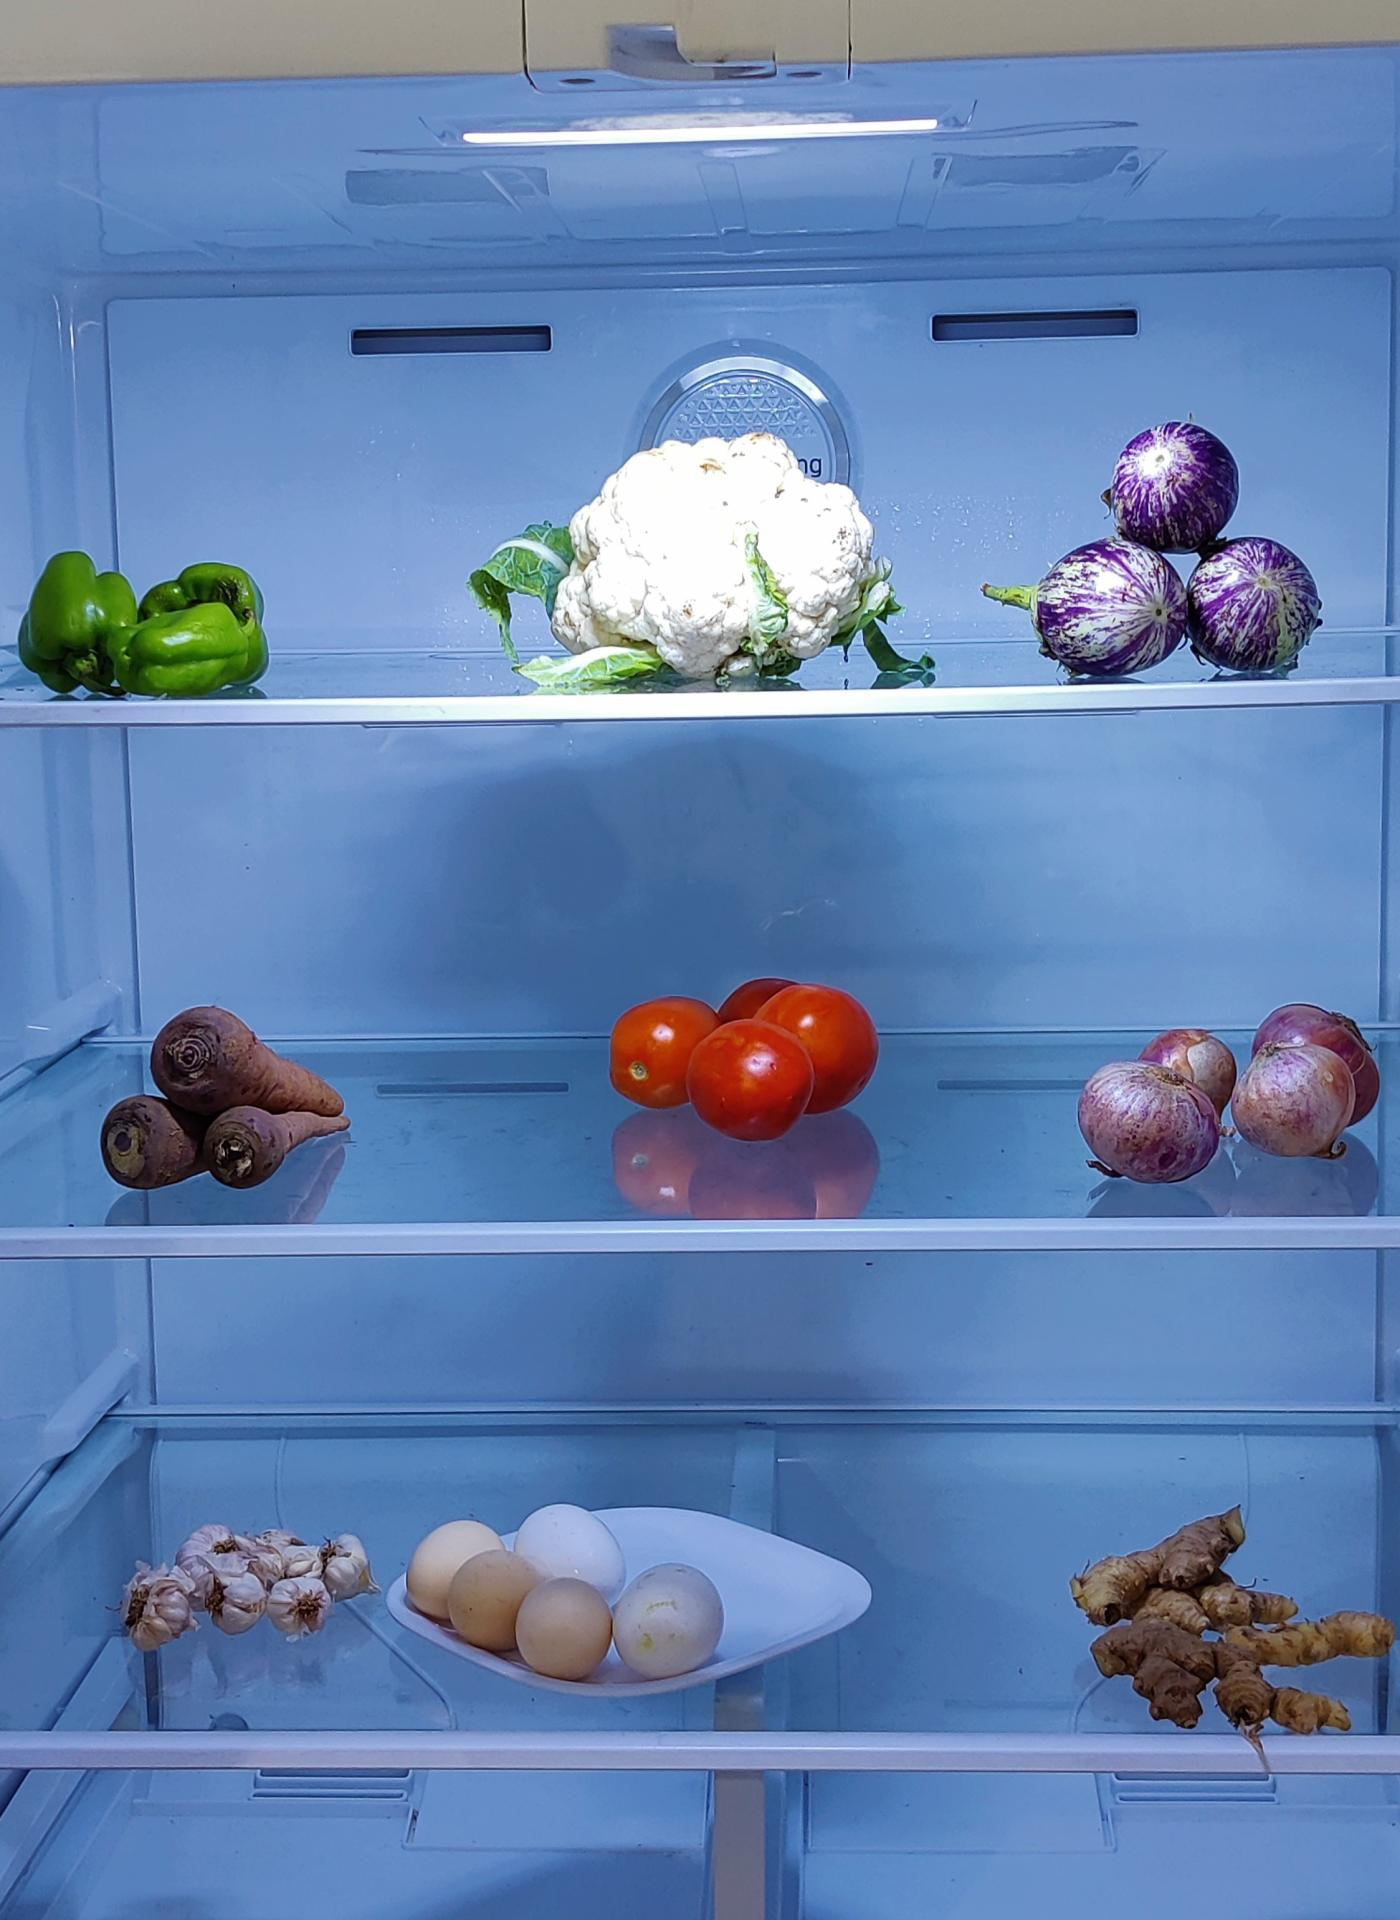capsicum: (19, 546, 279, 707)
carrots: (97, 996, 350, 1194)
cauliflower: (549, 441, 887, 674)
egg: (413, 1506, 737, 1699)
garlic: (1054, 425, 1345, 665), (107, 1522, 376, 1644)
ginger: (1079, 1532, 1390, 1735)
onion: (1078, 997, 1382, 1178)
tomato: (613, 973, 887, 1142)
